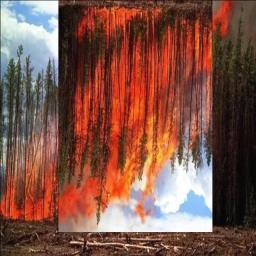Large fire: (59, 5, 210, 210)
Medium fire: (2, 125, 56, 222)
